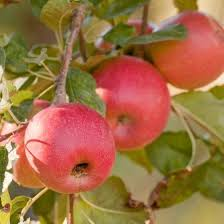tao: (90, 55, 170, 153), (28, 105, 113, 195), (144, 11, 223, 91)
